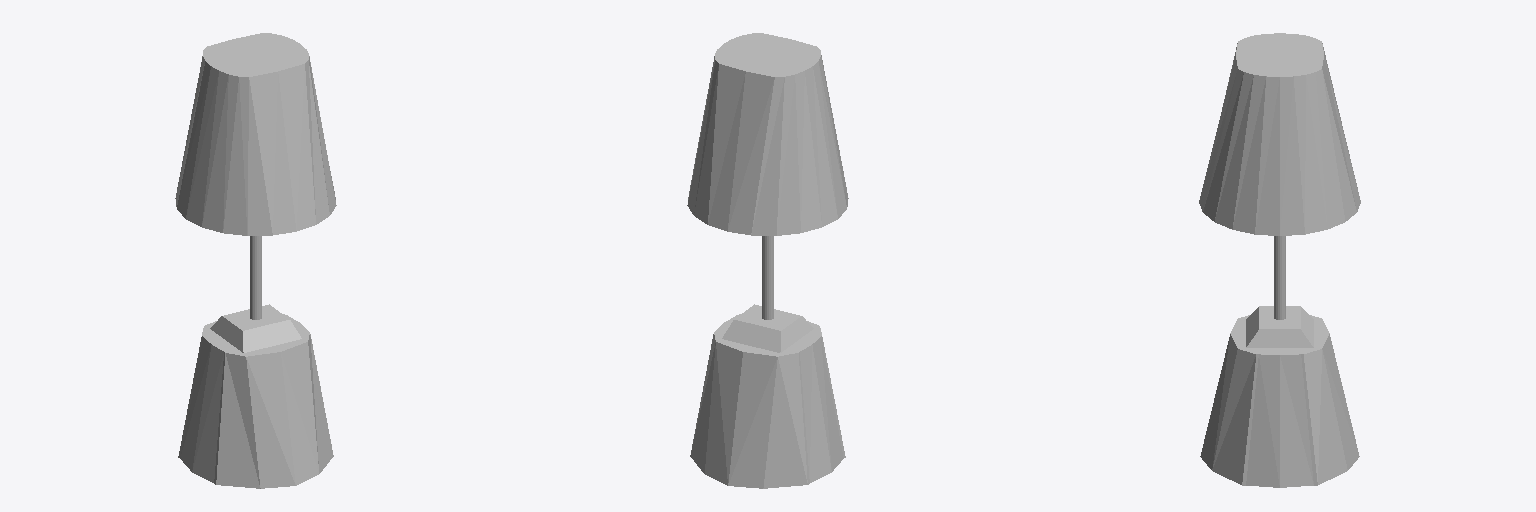
Rendered from lamp.obj.
The picture shows the model from 3 angles: view 1: azimuth 30°, elevation 25°; view 2: azimuth 150°, elevation 25°; view 3: azimuth 270°, elevation 25°; orthographic projection.
Visible parts, largest first — view 1: pCylinder1, pCube1, pCylinder2; view 2: pCylinder1, pCube1, pCylinder2; view 3: pCylinder1, pCube1, pCylinder2.
Part boxes in pixels (x1,y1,x2,y2): pCylinder1: (175, 33, 336, 235); pCube1: (178, 304, 333, 488); pCylinder2: (250, 236, 261, 319); pCylinder1: (687, 33, 848, 235); pCube1: (690, 304, 845, 488); pCylinder2: (762, 236, 773, 319); pCylinder1: (1199, 33, 1360, 235); pCube1: (1200, 306, 1359, 487); pCylinder2: (1274, 236, 1285, 319).
Size of the model in its own units: 2 by 5.47 by 2.